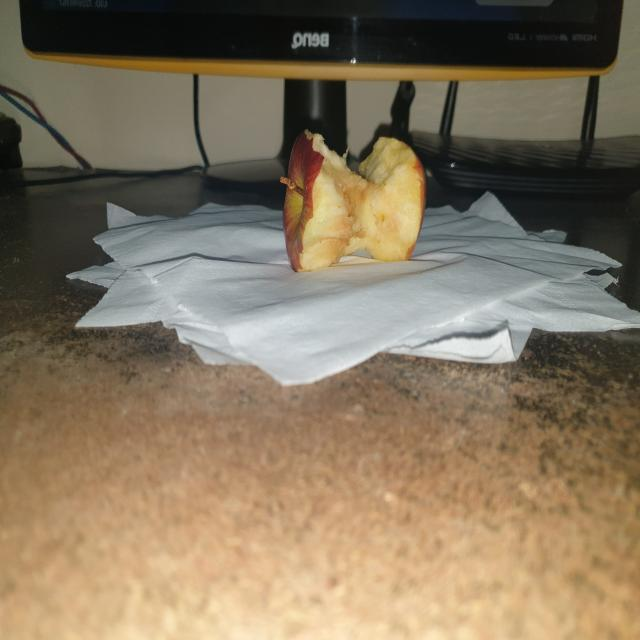apple: (258, 115, 430, 288)
